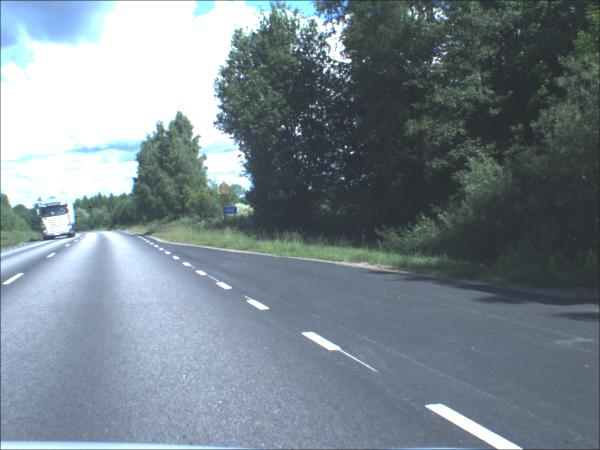80_SIGN: (219, 183, 231, 196)
PRIORITY_ROAD: (222, 197, 232, 207)
